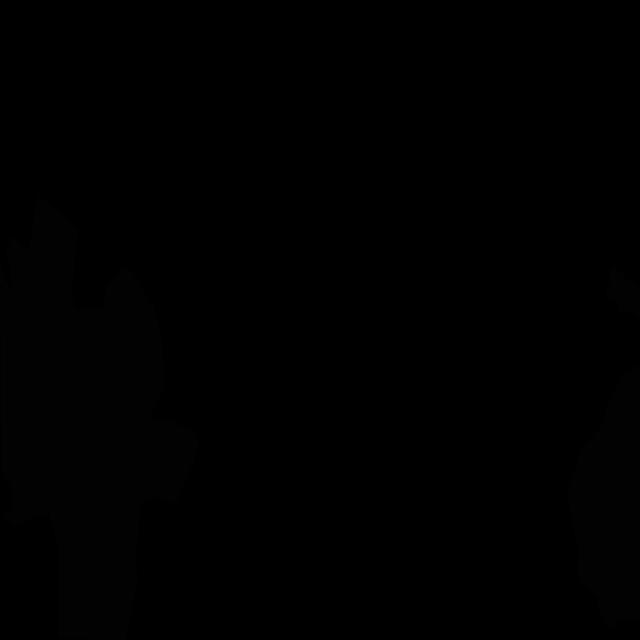cardboard: (0, 194, 200, 640), (567, 362, 640, 627), (604, 265, 640, 320)
